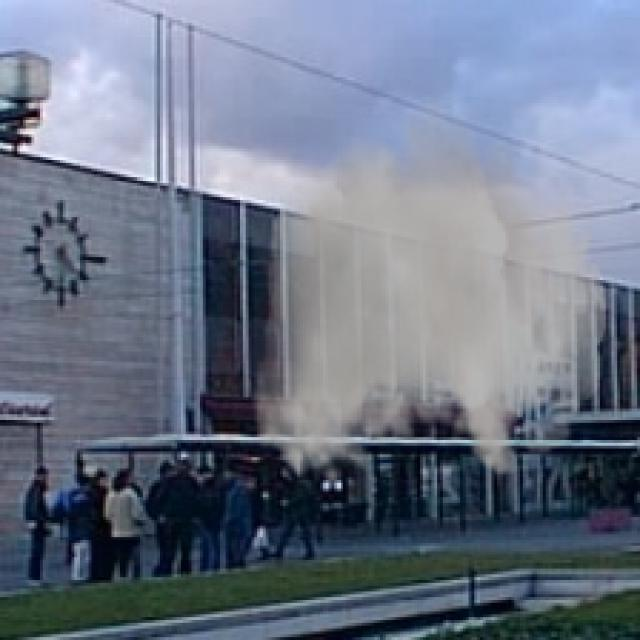Smoke: (251, 86, 606, 488)
